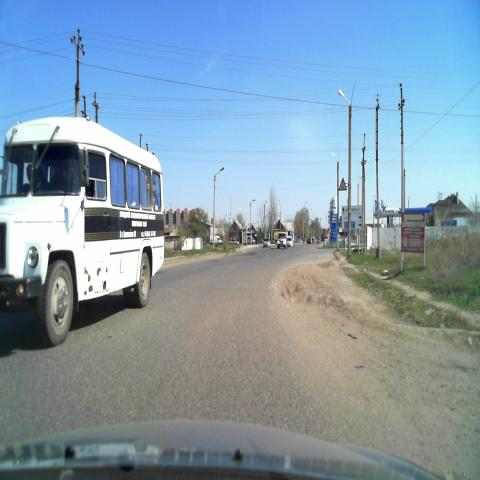1_8: (338, 177, 348, 193)
